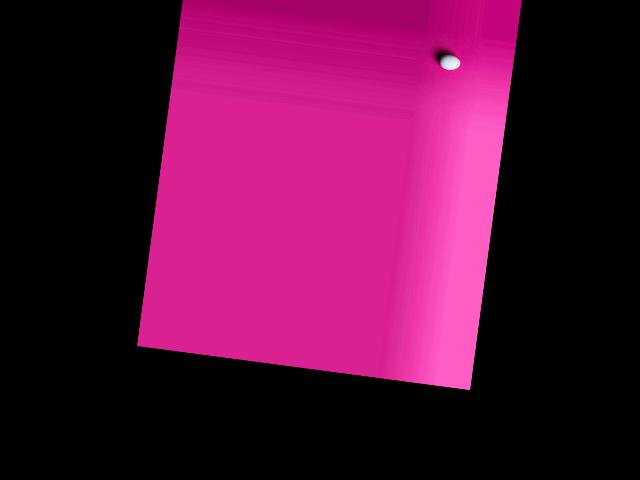egg: (438, 53, 461, 71)
